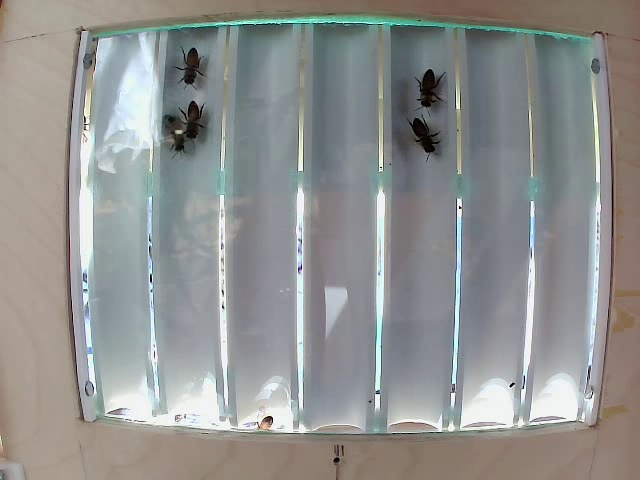bee: (405, 59, 441, 112), (176, 39, 213, 86), (166, 111, 194, 159), (181, 97, 209, 141), (414, 121, 442, 163)
